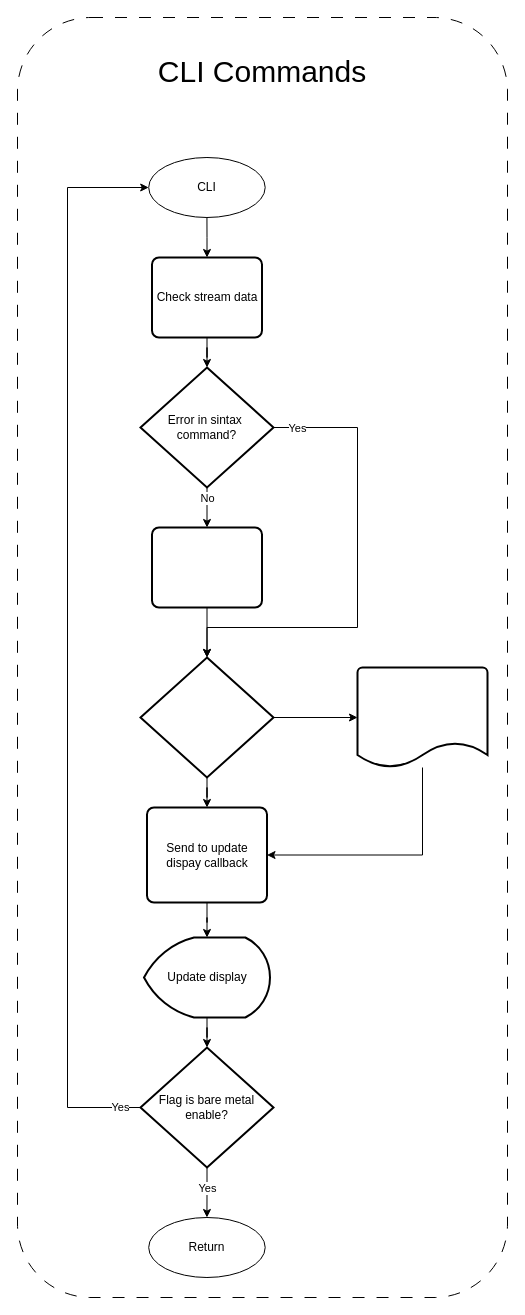
This 525x1315 diagram has some shape labels left out. Each missing label, with the box of its shape:
Calculate value: (150, 526, 262, 608)
Logs is enable?: (139, 656, 274, 778)
Send text to callback: (356, 666, 488, 768)
